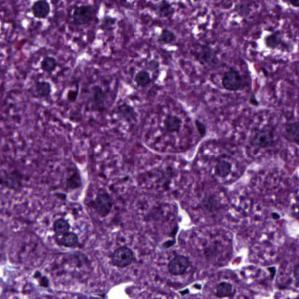inflammation: (130, 64, 155, 91), (25, 0, 53, 19)
